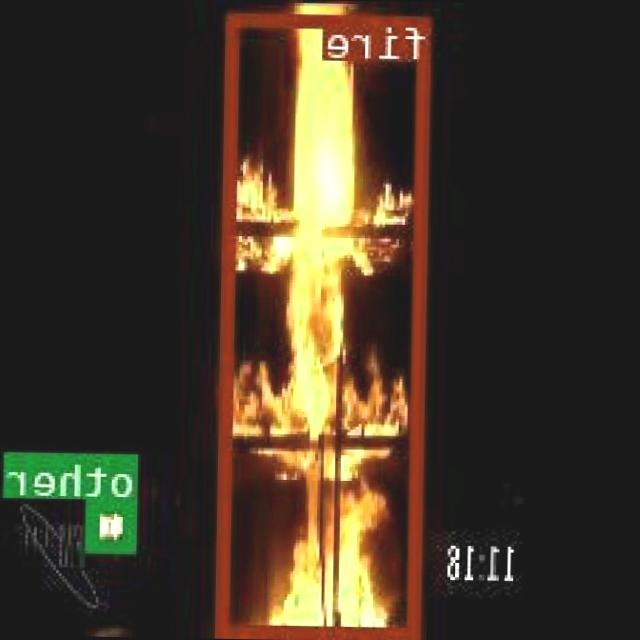fire: (220, 10, 434, 636)
